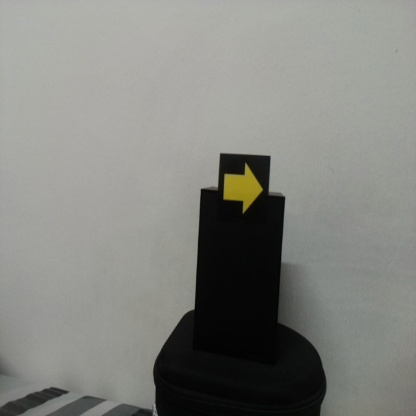id_3: (219, 154, 269, 220)
